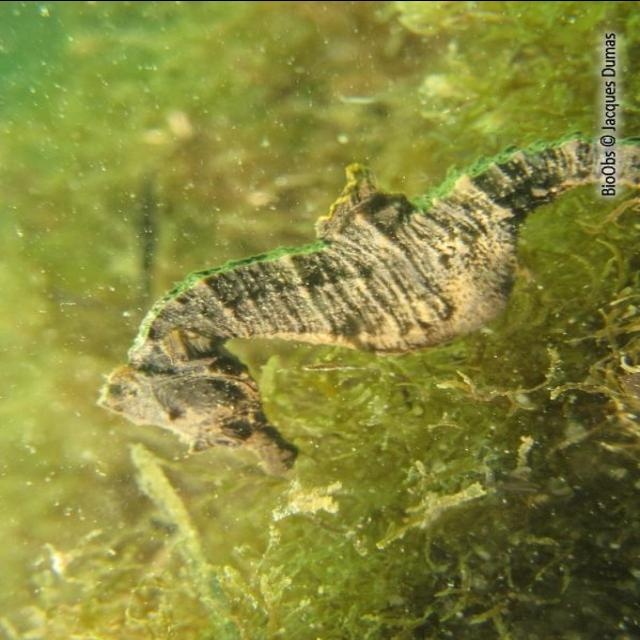Hippo: (90, 350, 302, 482)
